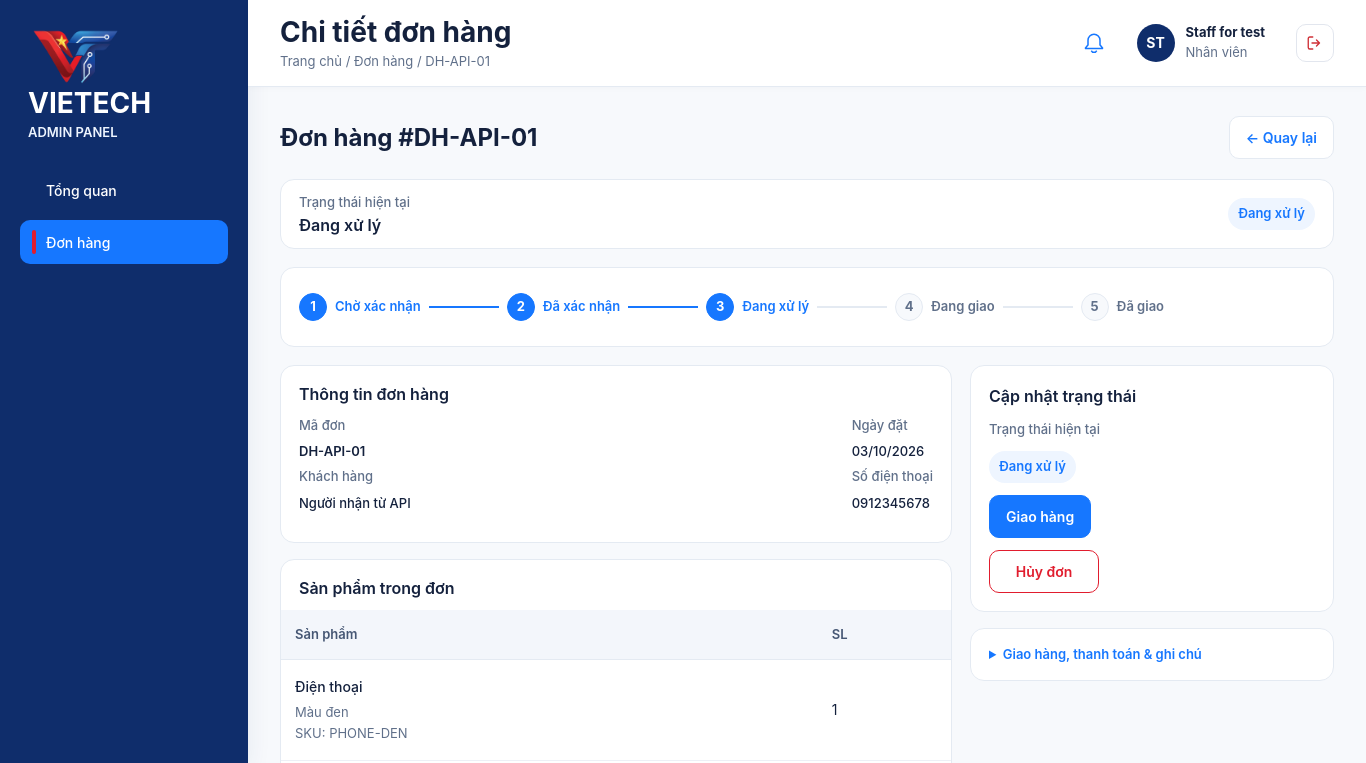
Test: packing displays system assigned serials read only and permits shipping
Click the button "Giao hàng".
click(1040, 516)  # box [989,495,1091,538]
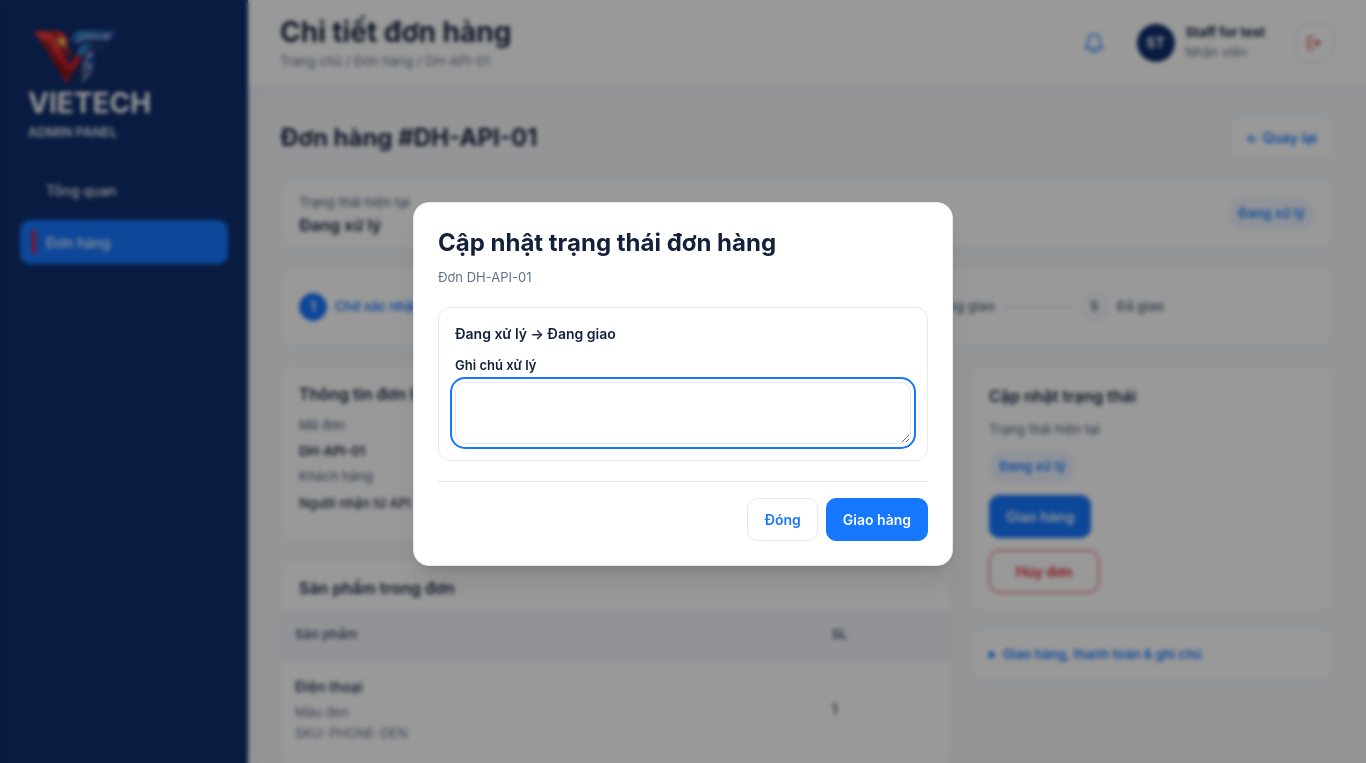
Click the button "Giao hàng".
click(877, 519)  # box [826,498,928,541]
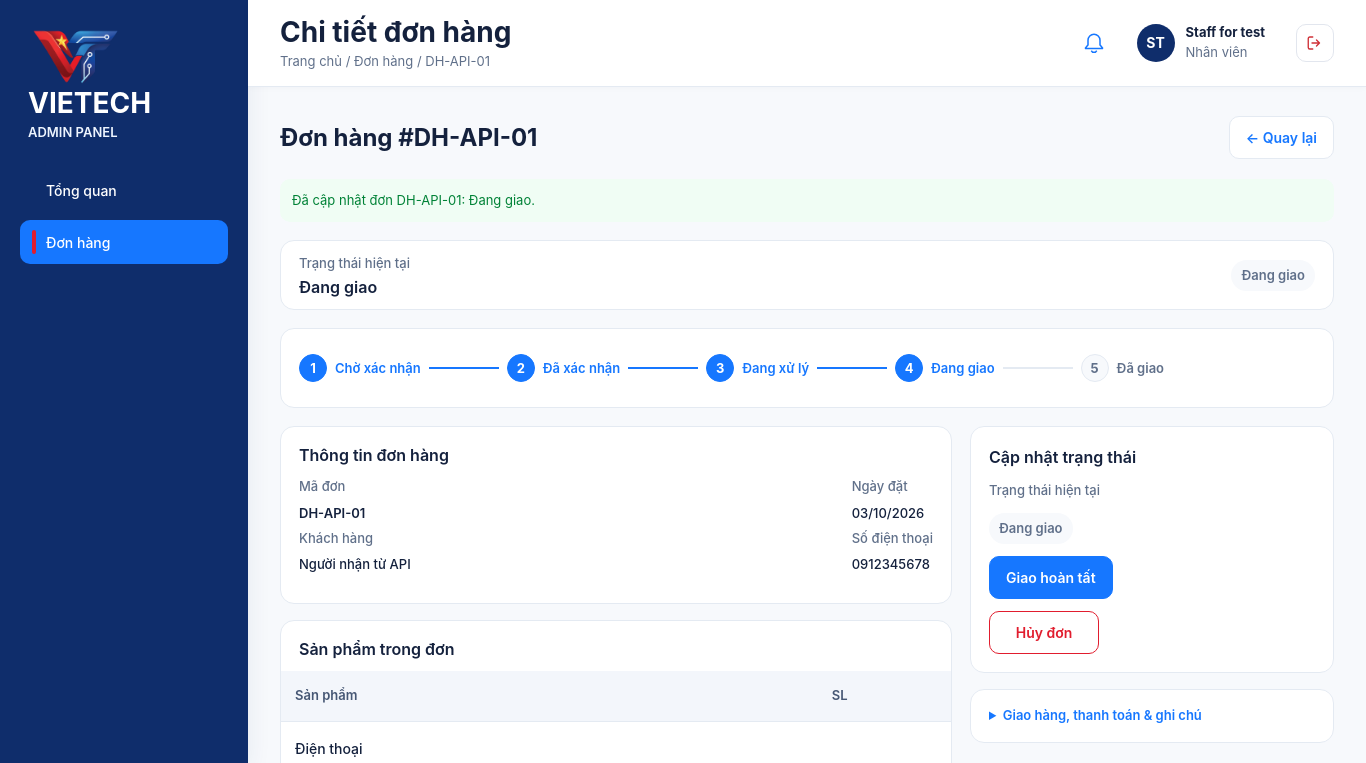
Expected: the button "Giao hoàn tất" is shown, [989,556,1113,599]
